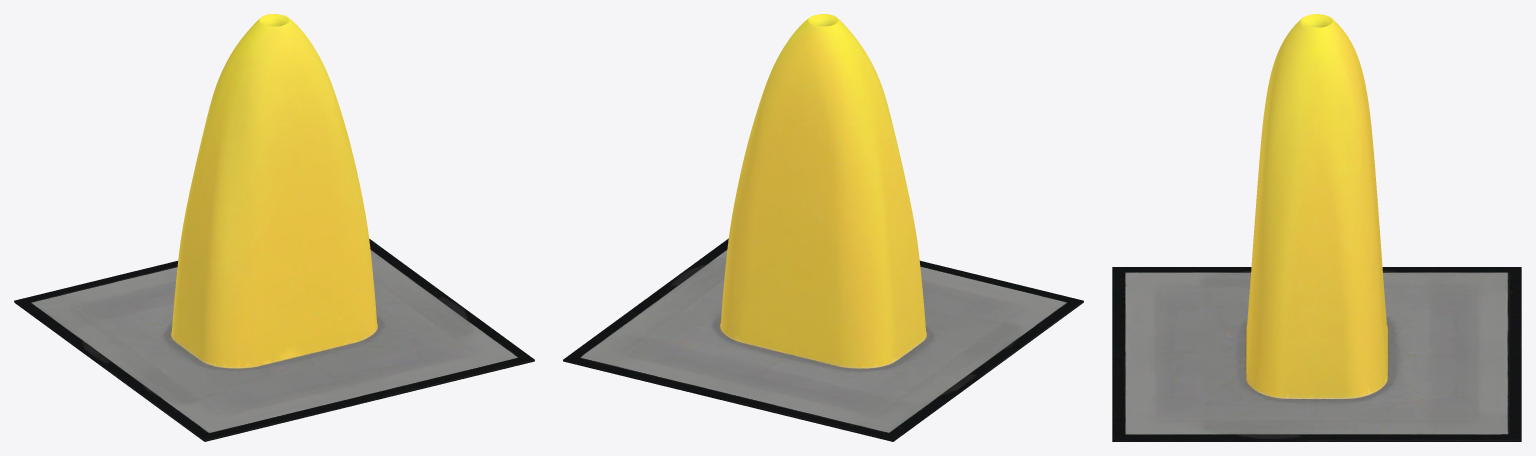
Rendered from part_nose.min.glb.
3 renders of one model, left to right at view 1: azimuth 30°, elevation 25°; view 2: azimuth 150°, elevation 25°; view 3: azimuth 270°, elevation 25°, orthographic. The views are drawn at different scales.
Size of the model in its own units: 1.9 by 1.72 by 1.9.
Materials: 1 (1 with a texture image).
